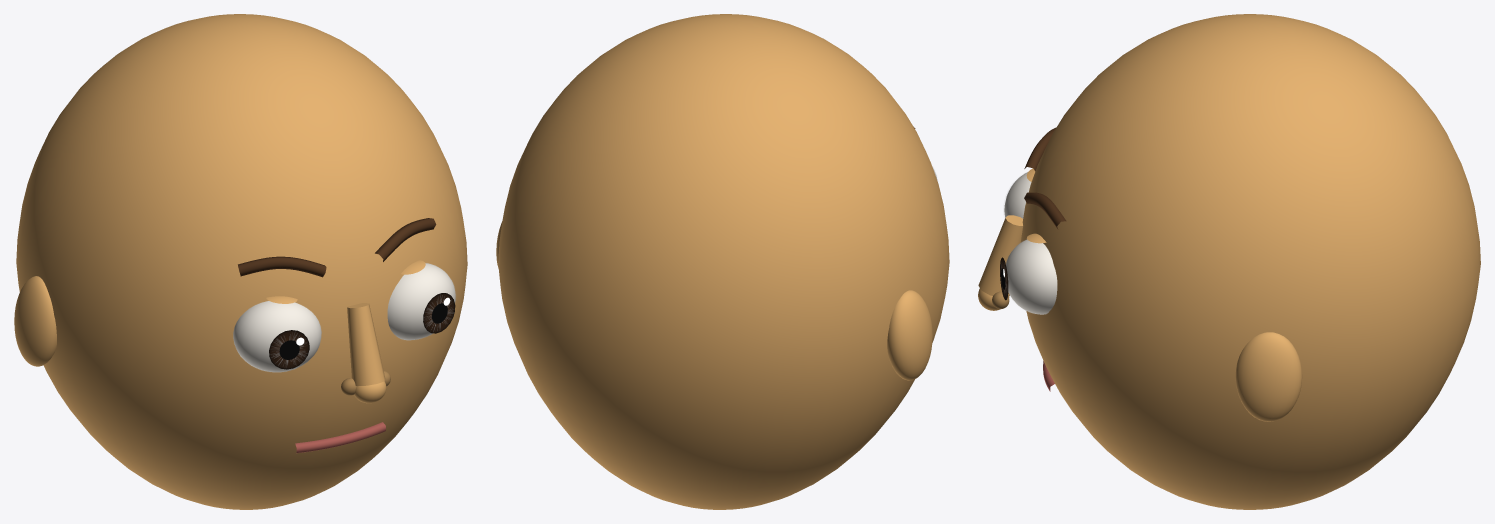
Rendered from 01-amande.glb.
3 views of the same model, side by side, from view 1: azimuth 30°, elevation 25°; view 2: azimuth 150°, elevation 25°; view 3: azimuth 270°, elevation 25° (orthographic).
Size of the model in its own units: 0.3087 by 0.321 by 0.3166.
Materials: 9 (1 with a texture image).
